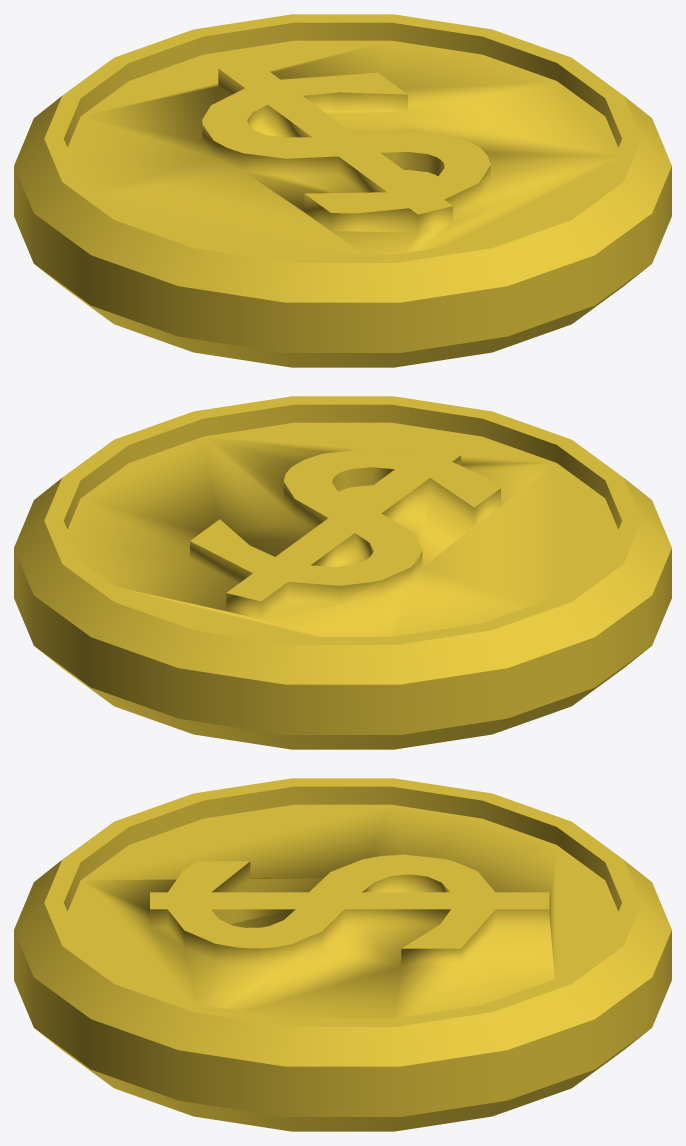
The model's file is coin_new.glb.
The picture shows the model from 3 angles, top to bottom: view 1: azimuth 30°, elevation 25°; view 2: azimuth 150°, elevation 25°; view 3: azimuth 270°, elevation 25°; orthographic projection.
Visible parts, largest first — view 1: Coin_New; view 2: Coin_New; view 3: Coin_New.
Part boxes in pixels (x1,y1,x2,y2): Coin_New: (14,14,671,367); Coin_New: (14,396,671,749); Coin_New: (14,778,671,1131).
Bounding box in the file's own units: 1.97 × 0.35 × 2.
